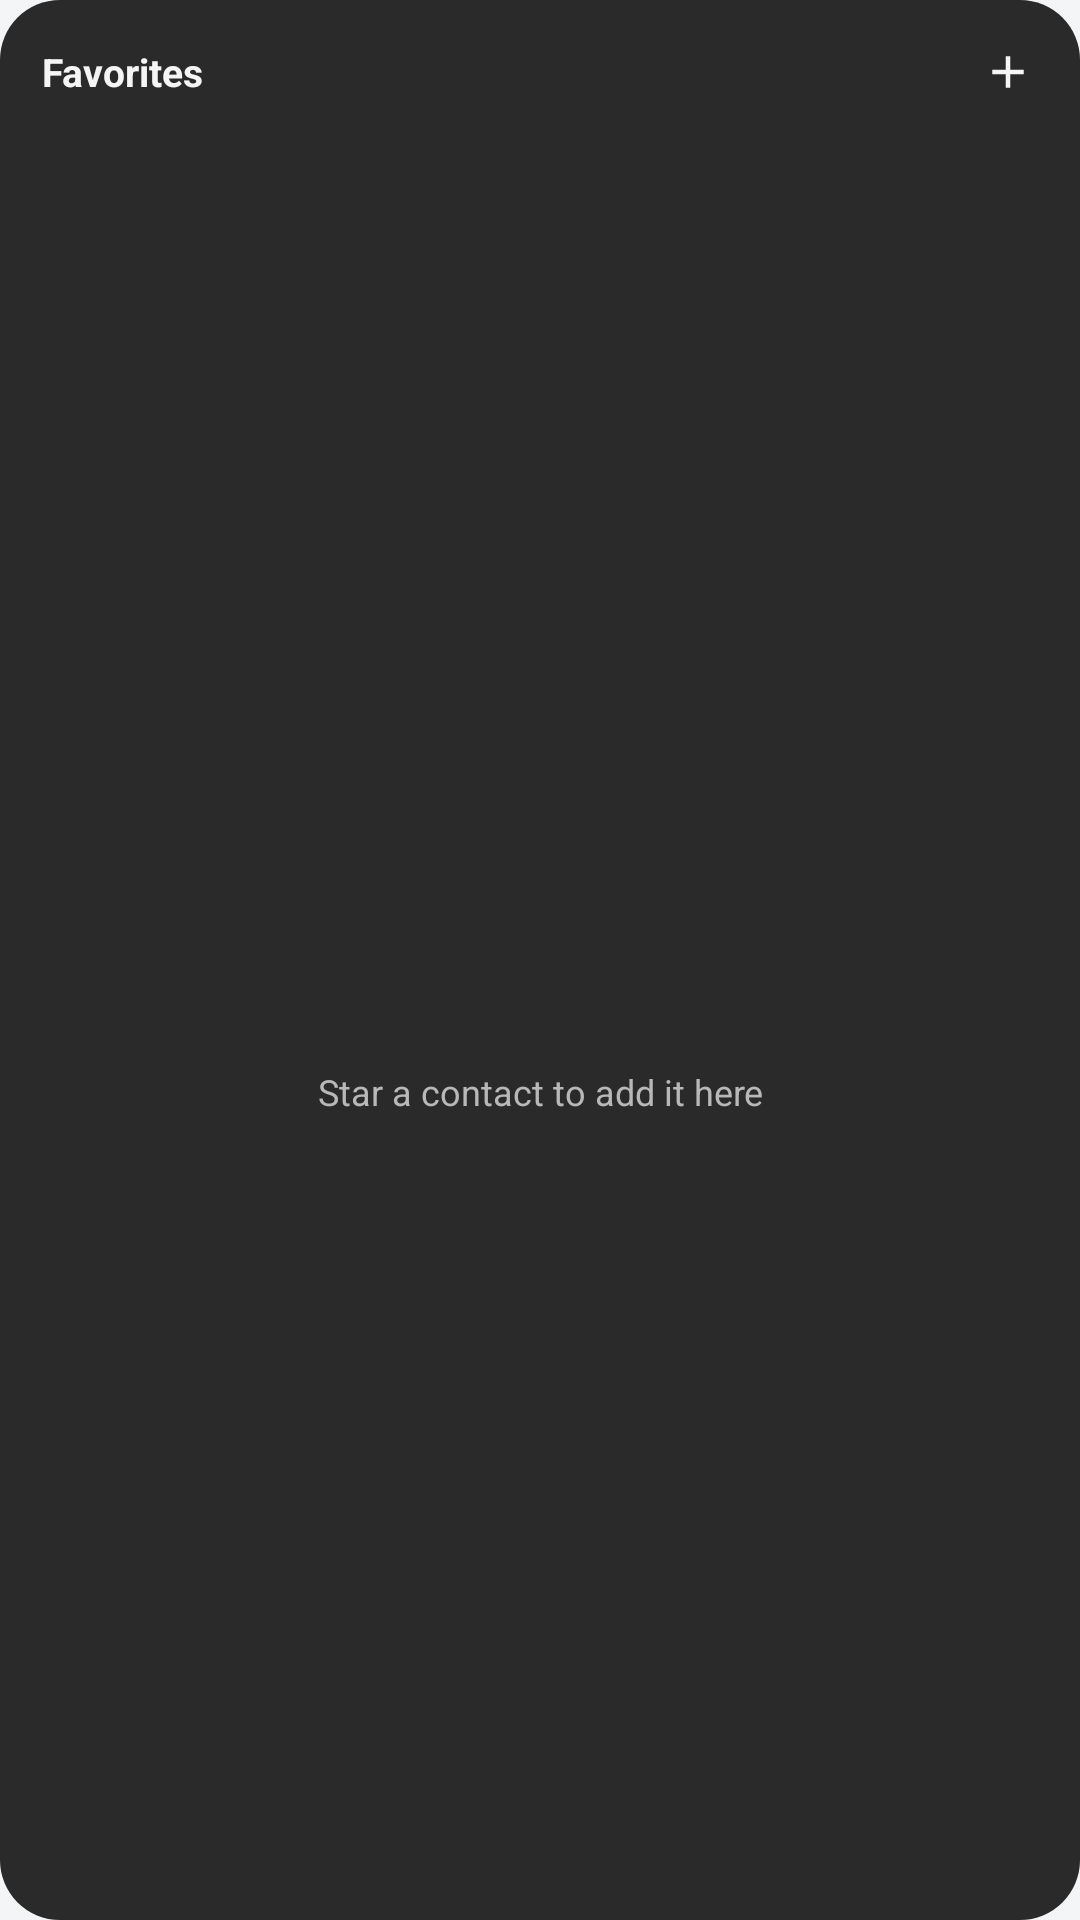

Point at icon controls on the screen. Image size 1080×1920, points as (x=x, y=y).
Add a favorite: (x=1008, y=72)
